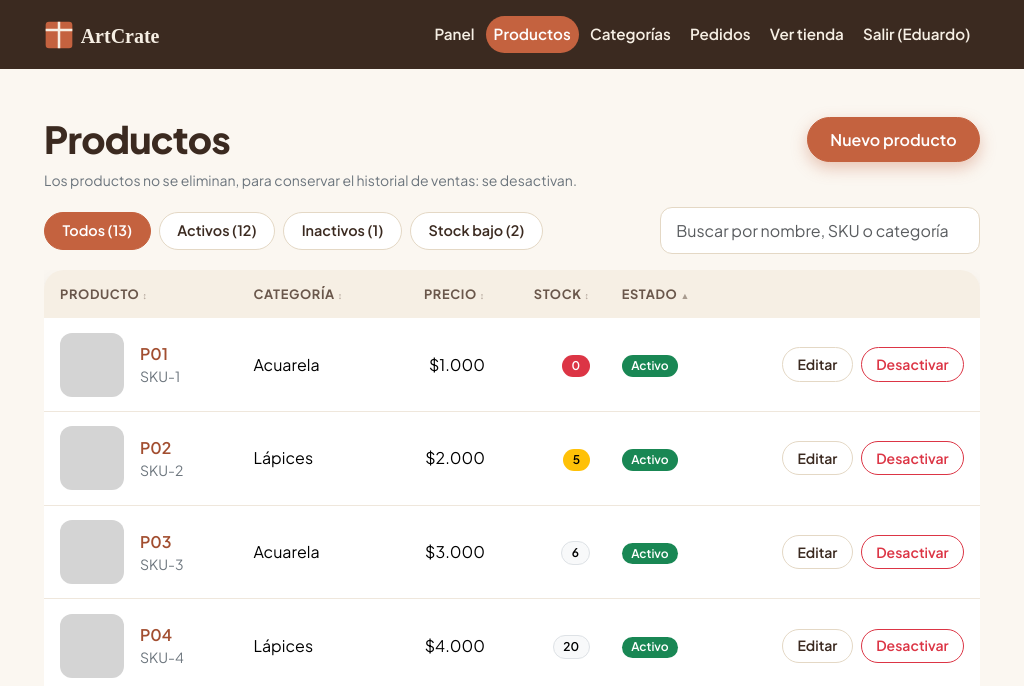
Lista de productos del panel › desactivar y activar › desactivar pide confirmación y, al aceptar, guarda el producto con activo = false
Expected: the row "P01 SKU-1 Acuarela $1.000 0 Activo Editar Desactivar" is shown, [44, 318, 980, 411]
Step 1. Click the button "Desactivar" in the row of "P01" → (912, 364), box [861, 347, 964, 382]
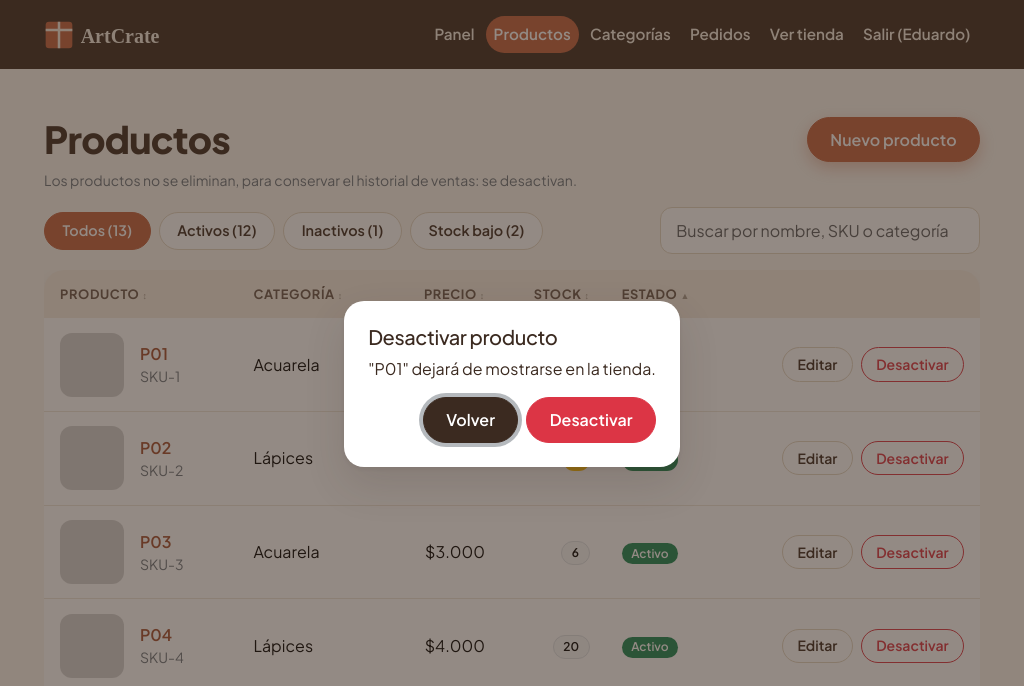
Now the dialog shows "\"P01\" dejará de mostrarse en la tienda", box [368, 358, 656, 379]
Step 2. Click the button "Desactivar" → (591, 420), box [526, 397, 656, 443]
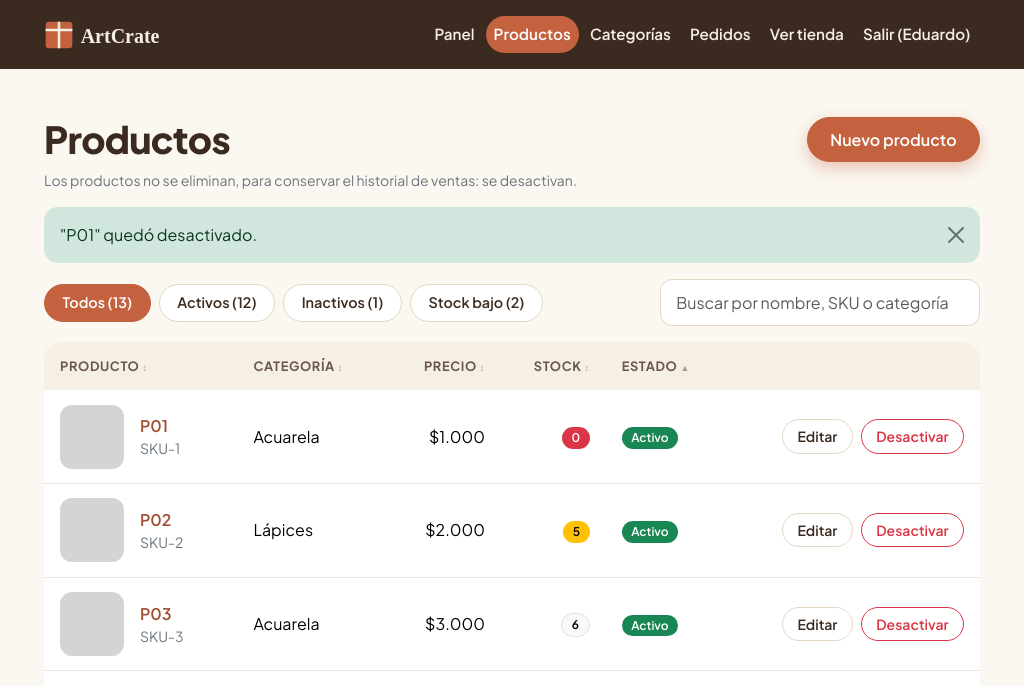
Now the text "\"P01\" quedó desactivado." is shown, box [44, 207, 980, 263]
